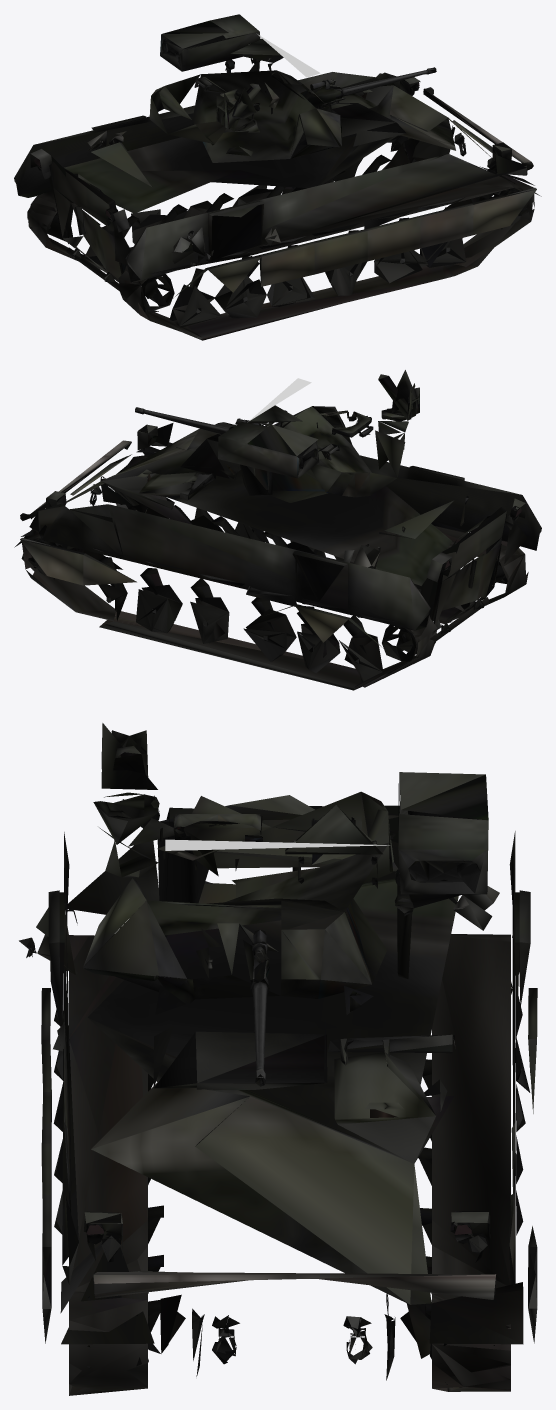
Rendered from bradley_lo.glb.
3 renders of one model, top to bottom at view 1: azimuth 30°, elevation 25°; view 2: azimuth 150°, elevation 25°; view 3: azimuth 270°, elevation 25°, orthographic. The views are drawn at different scales.
Parts seen in each view (by area): view 1: g_bradley_hull, g_bradley_turret, g_bradley_gun; view 2: g_bradley_hull, g_bradley_turret, g_bradley_gun; view 3: g_bradley_hull, g_bradley_turret, g_bradley_gun.
Part boxes in pixels (left/top/right/bottom): g_bradley_hull: left=14, top=72, right=541, bottom=340; g_bradley_turret: left=149, top=14, right=436, bottom=162; g_bradley_gun: left=335, top=70, right=428, bottom=98; g_bradley_hull: left=14, top=422, right=541, bottom=690; g_bradley_turret: left=135, top=370, right=419, bottom=502; g_bradley_gun: left=143, top=409, right=229, bottom=434; g_bradley_hull: left=19, top=795, right=537, bottom=1395; g_bradley_turret: left=83, top=723, right=488, bottom=1086; g_bradley_gun: left=252, top=977, right=268, bottom=1073.
Bounding box in the file's own units: 6.55 × 3.57 × 3.55.
4 materials, 3 textured.
